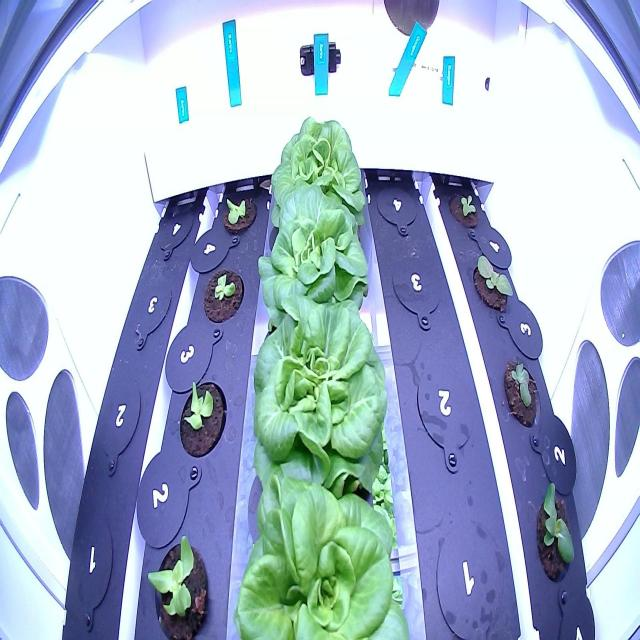empty_pod: (428, 505, 515, 639), (409, 339, 481, 480), (66, 499, 120, 636), (90, 364, 148, 480), (388, 242, 448, 336), (124, 267, 176, 356), (373, 172, 422, 242), (152, 197, 197, 263)
young: (227, 470, 417, 640), (246, 288, 397, 499), (254, 180, 374, 335), (267, 110, 370, 242), (142, 527, 214, 640), (529, 473, 585, 596), (177, 374, 229, 463), (498, 349, 544, 436), (466, 245, 518, 320), (199, 256, 247, 330), (214, 183, 261, 244), (445, 177, 488, 238)
